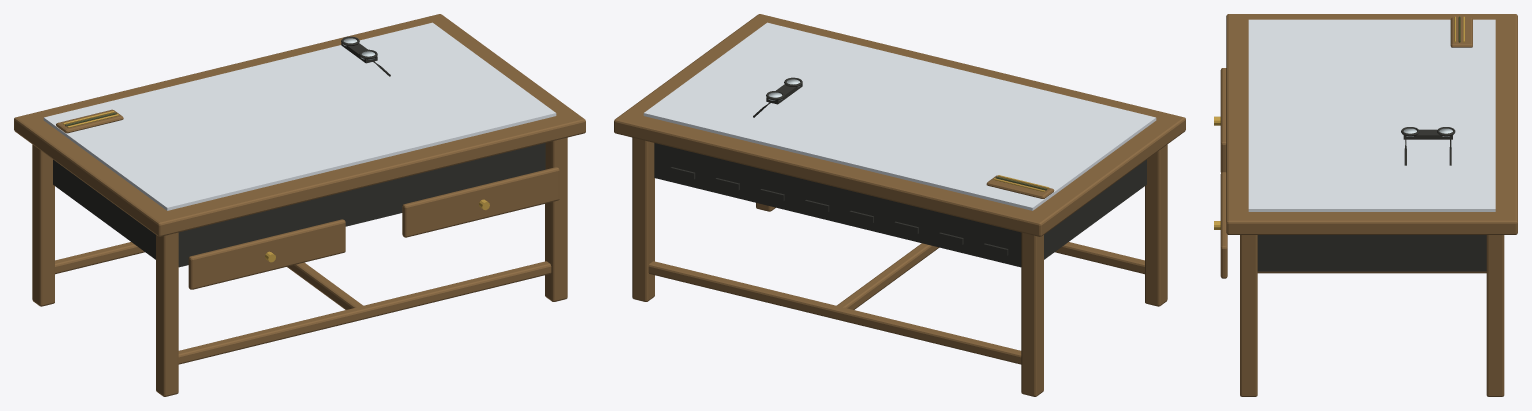
The model's file is light_table.glb.
3 views of the same model, side by side, from view 1: azimuth 30°, elevation 25°; view 2: azimuth 150°, elevation 25°; view 3: azimuth 270°, elevation 25° (orthographic).
Visible parts, largest first — view 1: light_table_wood_light, light_table_table_glass, light_table_metal_dark; view 2: light_table_table_glass, light_table_wood_light, light_table_metal_dark; view 3: light_table_table_glass, light_table_wood_light, light_table_metal_dark.
Boxes of the visible parts, left/top/right/bottom form: light_table_wood_light: left=14, top=14, right=585, bottom=396; light_table_table_glass: left=43, top=22, right=556, bottom=210; light_table_metal_dark: left=53, top=36, right=545, bottom=267; light_table_table_glass: left=643, top=22, right=1156, bottom=210; light_table_wood_light: left=614, top=14, right=1185, bottom=396; light_table_metal_dark: left=654, top=77, right=1146, bottom=267; light_table_table_glass: left=1248, top=19, right=1495, bottom=211; light_table_wood_light: left=1220, top=14, right=1517, bottom=396; light_table_metal_dark: left=1257, top=127, right=1486, bottom=271.
Bounding box in the file's own units: 2.2 × 1.04 × 1.35.
